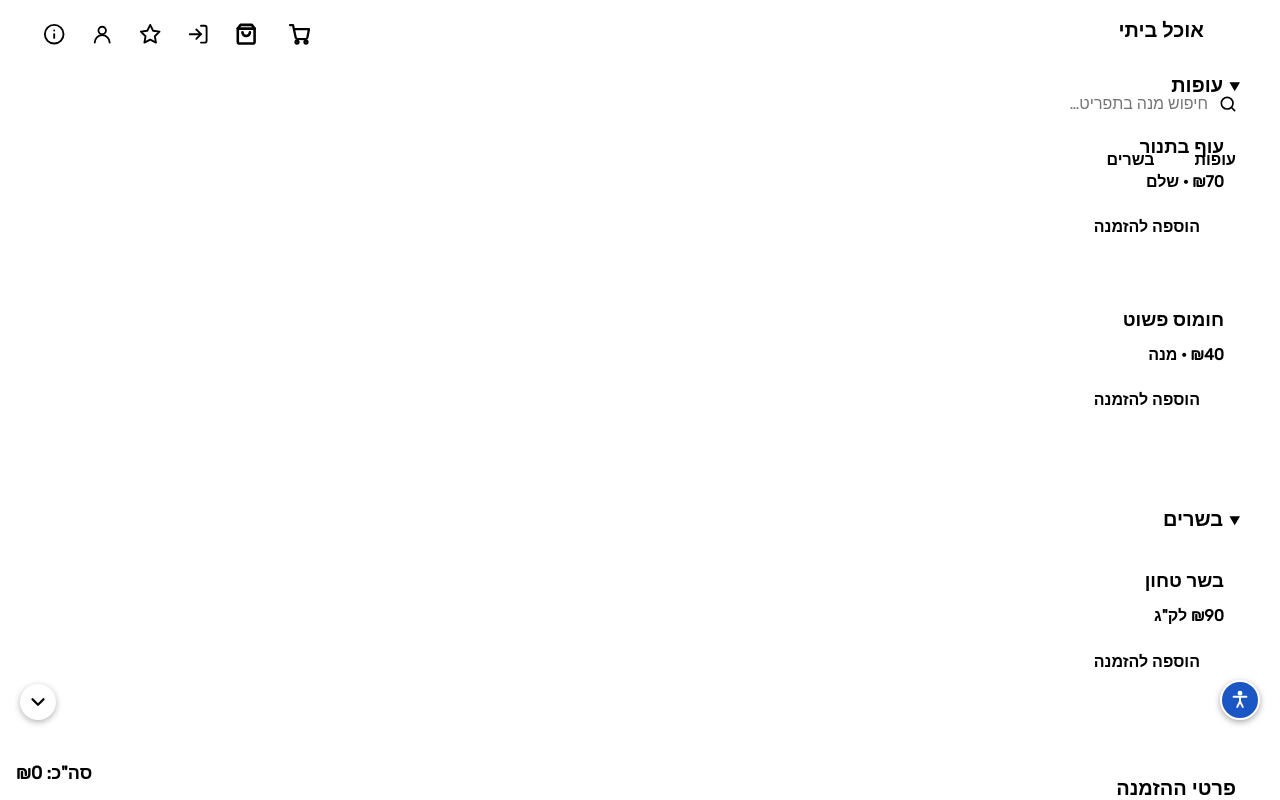
it: Delivery fee by zones › keeps the address fields behind a button until it is pressed
The image size is (1280, 800).
(page scrolled)
Click the button with aria-label "הוספה להזמנה: חומוס פשוט". click: point(1147, 400)
box: [1074,378,1220,423]
(page scrolled)
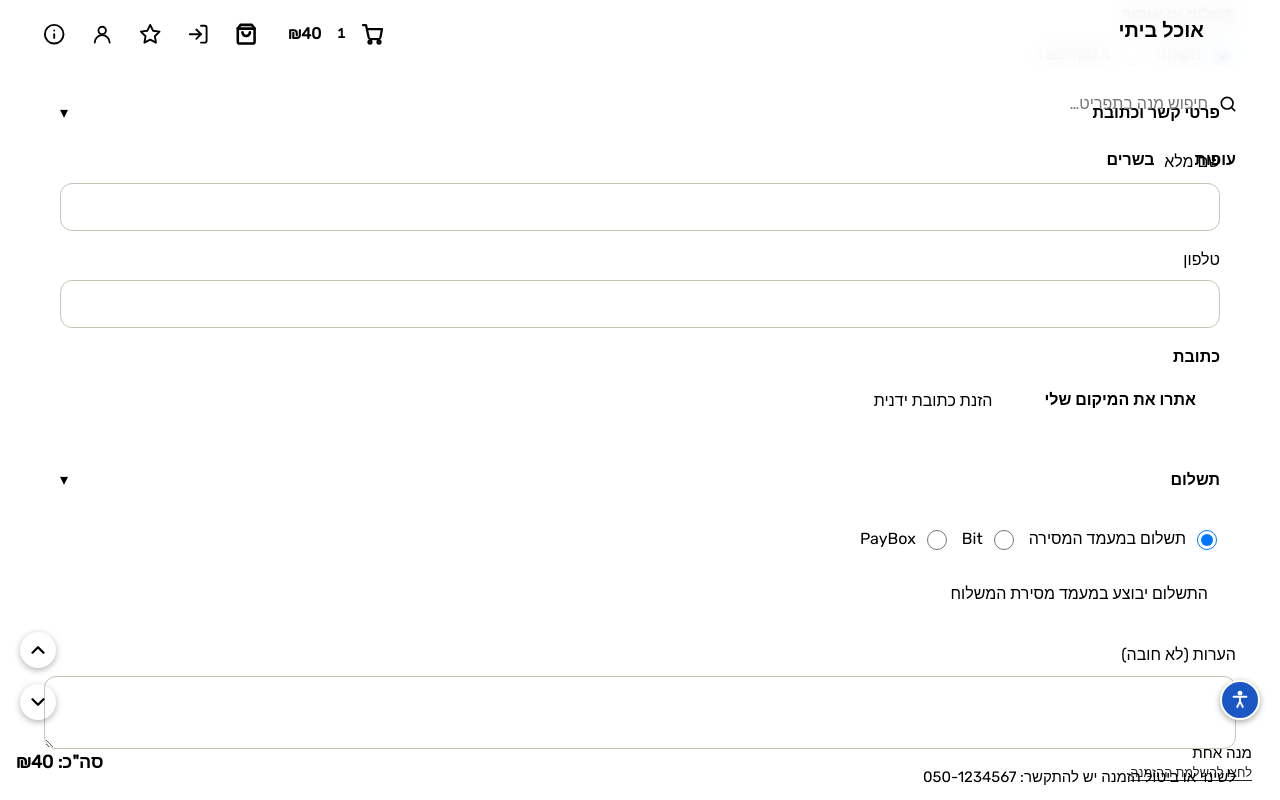
Expected: the field labelled "רחוב" is not shown
Expected: the button "אתרו את המיקום שלי" is shown, [1024,377,1216,423]
Click the button "הזנת כתובת ידנית". click: point(933, 401)
box: [862,379,1004,423]
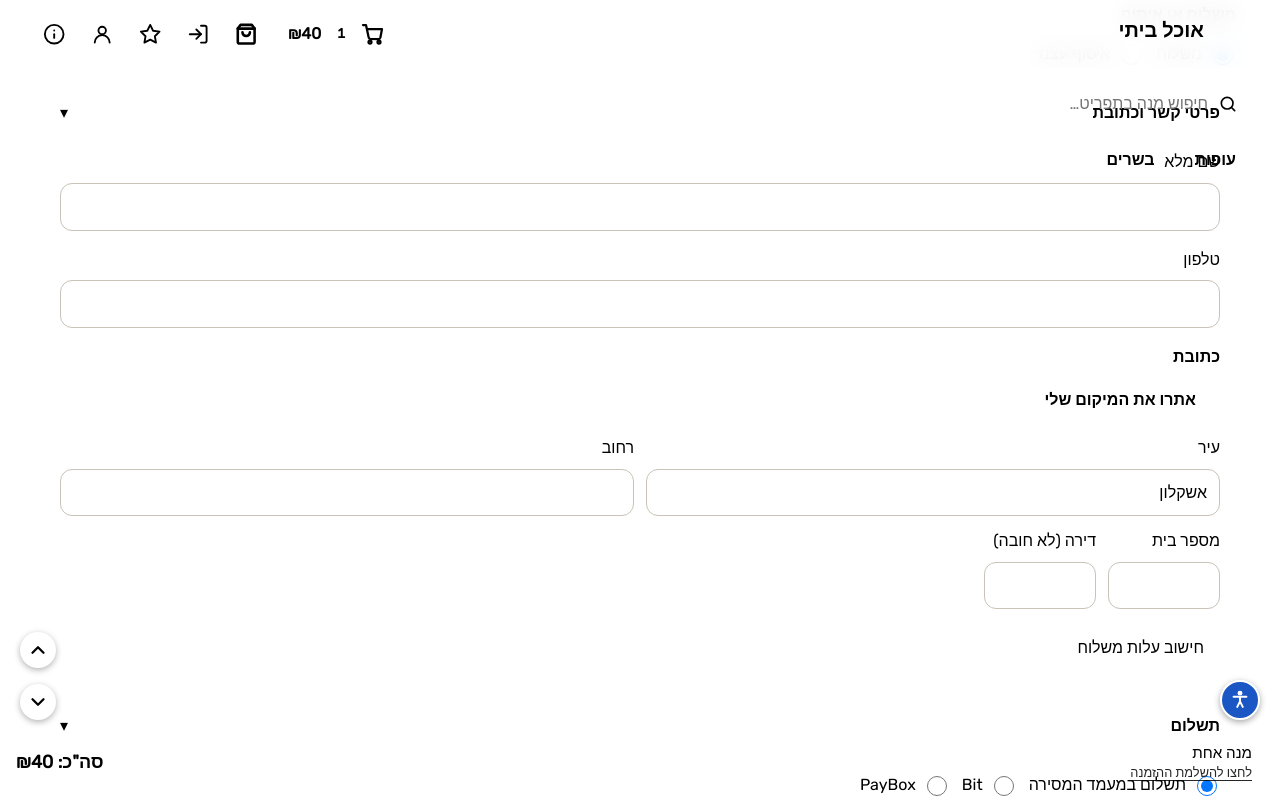
Expected: the field labelled "רחוב" is shown, [60,468,634,516]
Expected: the button "הזנת כתובת ידנית" is gone
